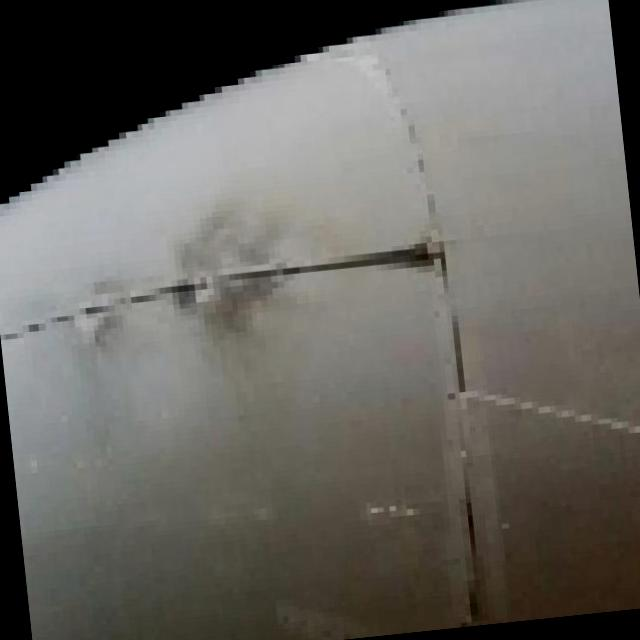crack: (272, 244, 438, 282)
